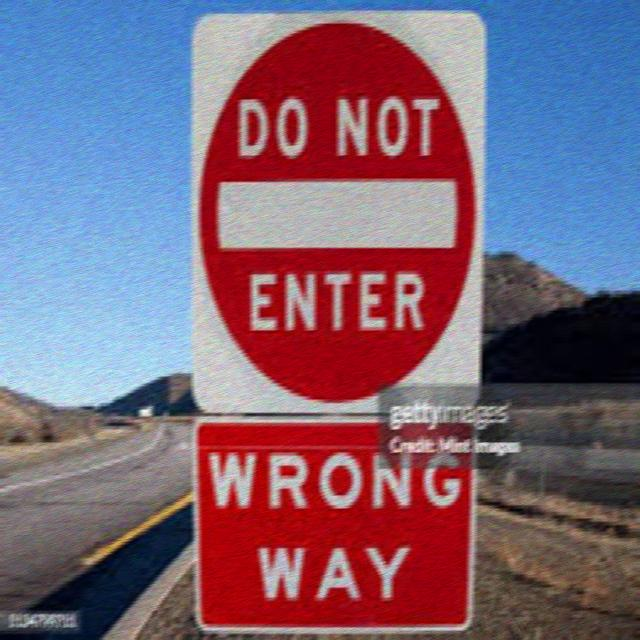doNotEnter: (196, 12, 485, 415)
